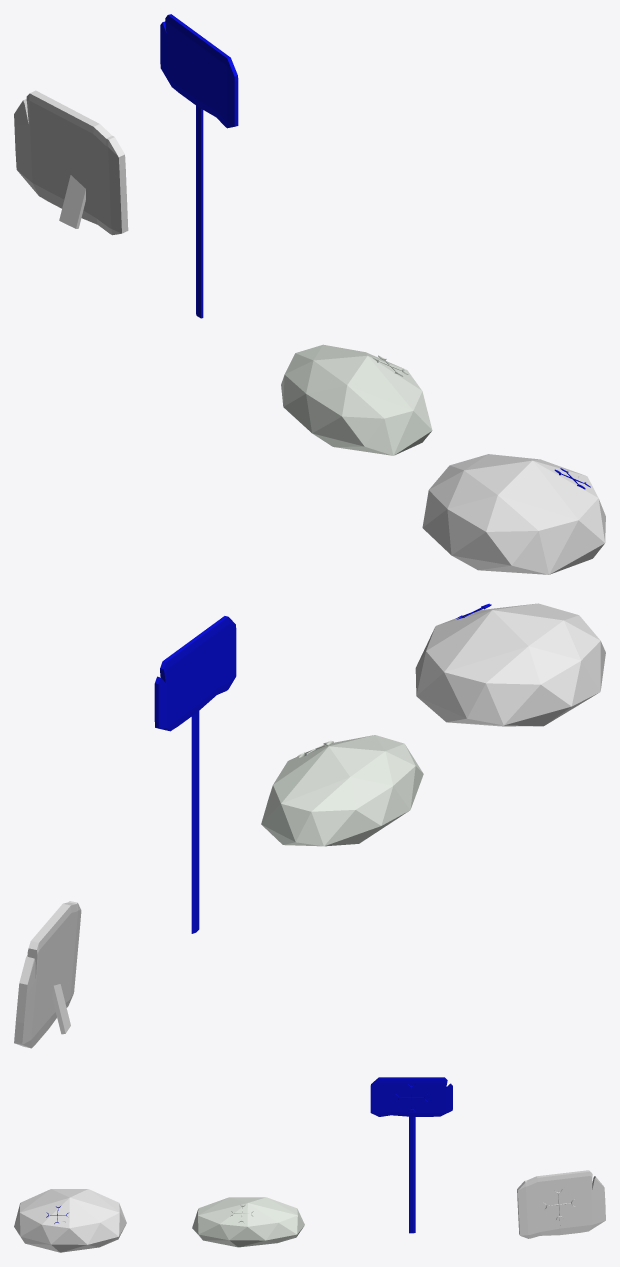
Rendered from runeSigns_set_001.fbx.
3 views of the same model, one above another, from view 1: azimuth 30°, elevation 25°; view 2: azimuth 150°, elevation 25°; view 3: azimuth 270°, elevation 25° (orthographic). The views are drawn at different scales.
Parts seen in each view (by area): view 1: runeSign_004-01, runeSign_003, runeSign_001, runeSign_002; view 2: runeSign_004-01, runeSign_003, runeSign_002, runeSign_001; view 3: runeSign_004-01, runeSign_001, runeSign_003, runeSign_002.
Boxes of the visible parts, box(x1,y1,x2,y2) form: runeSign_004-01: box(422, 454, 605, 574); runeSign_003: box(281, 344, 432, 455); runeSign_001: box(14, 90, 128, 235); runeSign_002: box(160, 14, 238, 318); runeSign_004-01: box(415, 603, 605, 726); runeSign_003: box(261, 735, 423, 846); runeSign_002: box(154, 616, 236, 933); runeSign_001: box(14, 901, 81, 1048); runeSign_004-01: box(14, 1189, 126, 1252); runeSign_001: box(517, 1170, 605, 1238); runeSign_003: box(192, 1197, 304, 1247); runeSign_002: box(370, 1077, 452, 1233).
Size of the model in its own units: 80.1 by 151 by 493.
